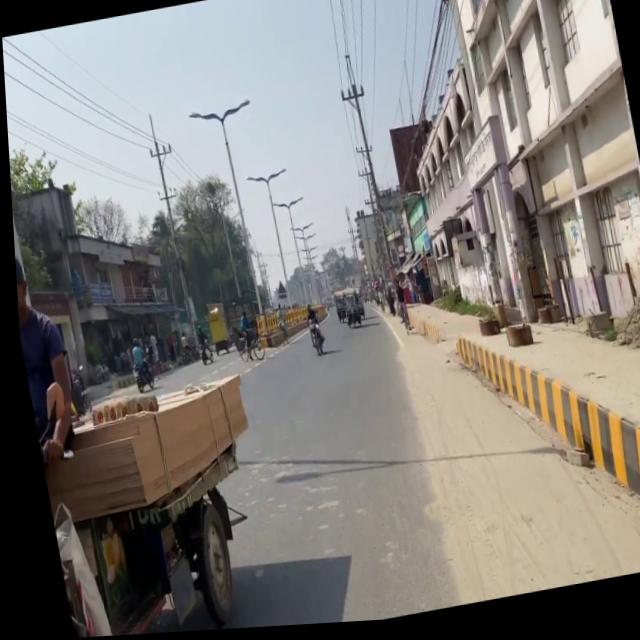Construction-barrier: (491, 350, 640, 524)
Fallen-tree: (225, 324, 261, 366), (61, 367, 87, 420), (124, 353, 153, 396), (300, 318, 323, 360), (191, 339, 209, 368), (172, 343, 193, 367), (85, 361, 106, 385), (339, 307, 359, 332), (389, 303, 403, 331)
Garbage: (26, 373, 255, 528)
Garbage-bin: (12, 245, 80, 469)
Pothole: (429, 294, 640, 607)
Traffic-cone: (26, 372, 278, 640)
